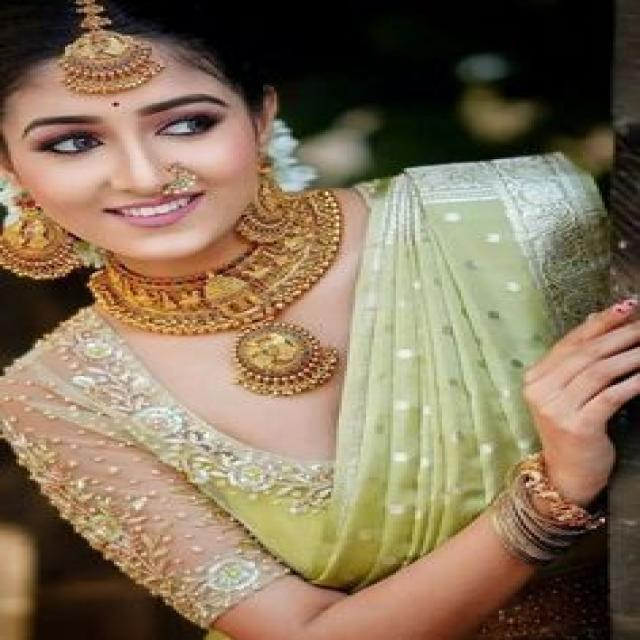Earring: (0, 177, 93, 293), (228, 142, 312, 250)
